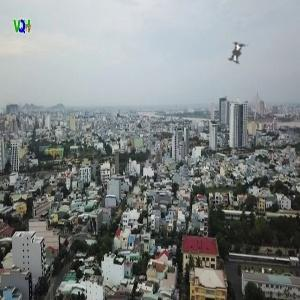drone: (209, 27, 265, 83)
